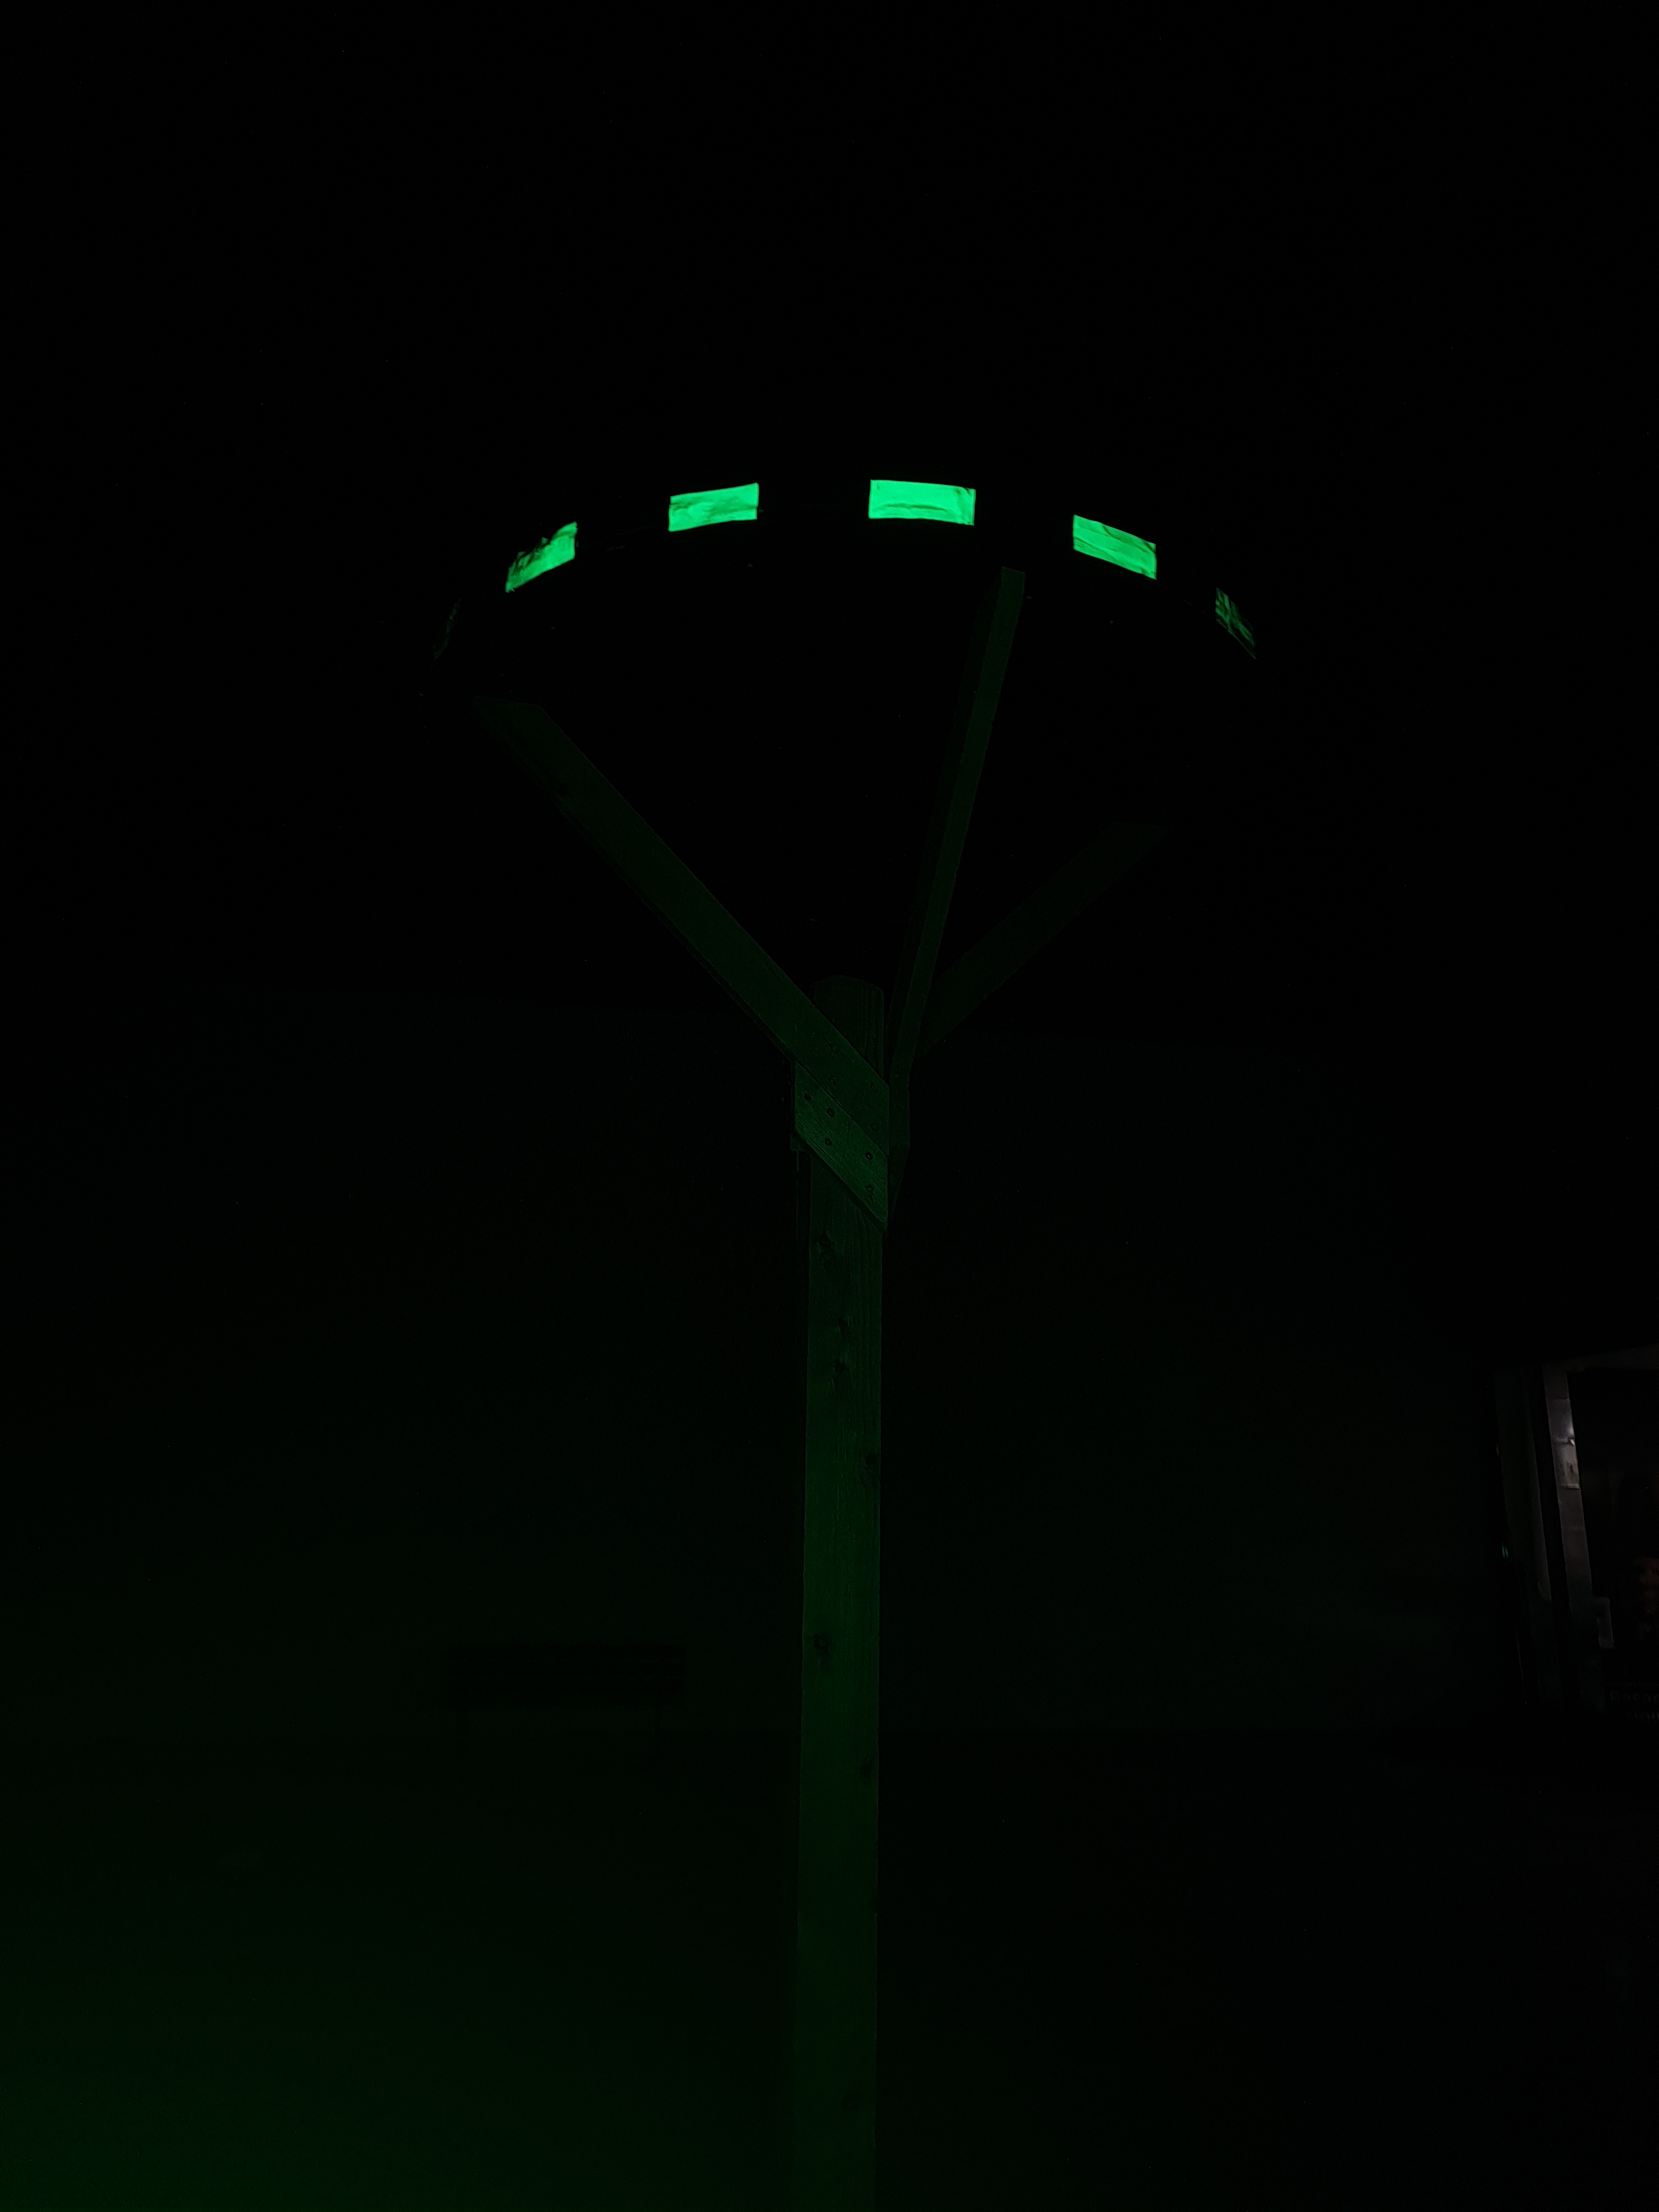hoop: (507, 472, 1258, 655)
